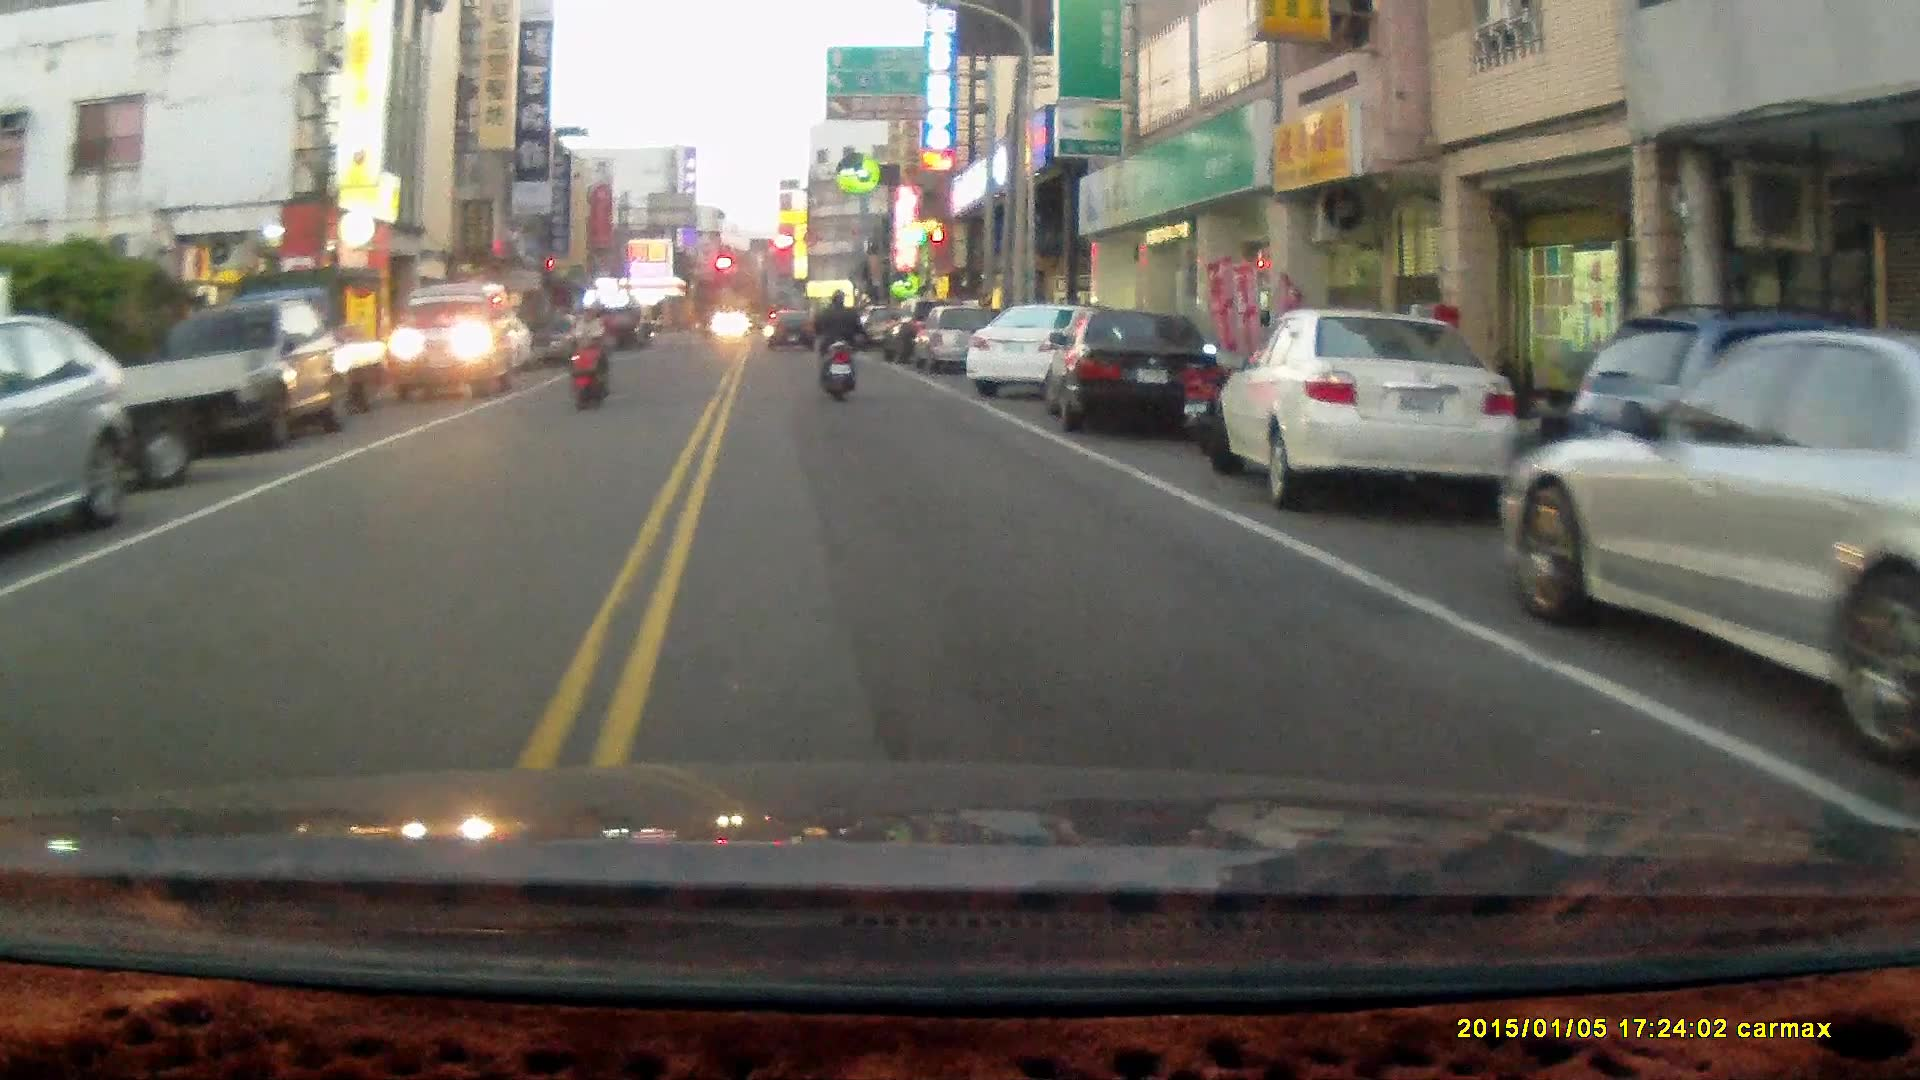rider: (814, 286, 860, 405), (570, 295, 615, 411)
vehicle: (1497, 321, 1920, 770), (1217, 304, 1520, 510), (1, 305, 133, 564), (152, 290, 349, 448), (1043, 304, 1222, 434), (965, 300, 1143, 401), (391, 280, 523, 402), (909, 301, 1015, 379)
